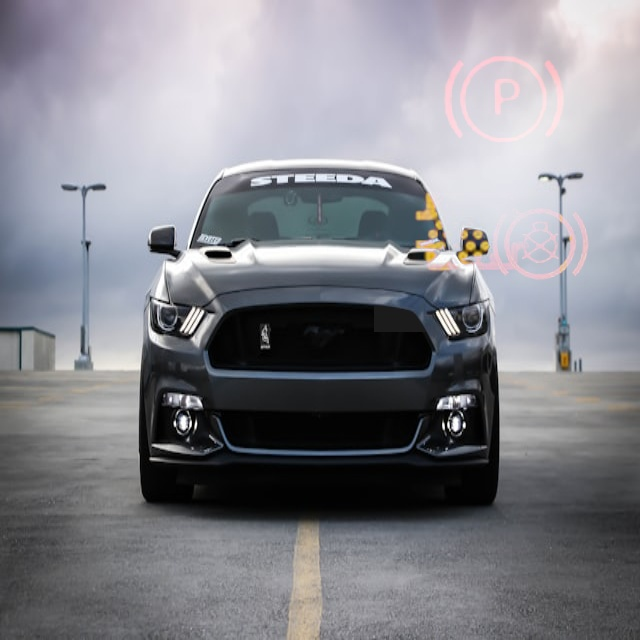symbol: (374, 132, 574, 332), (416, 14, 590, 188), (470, 175, 610, 315)
